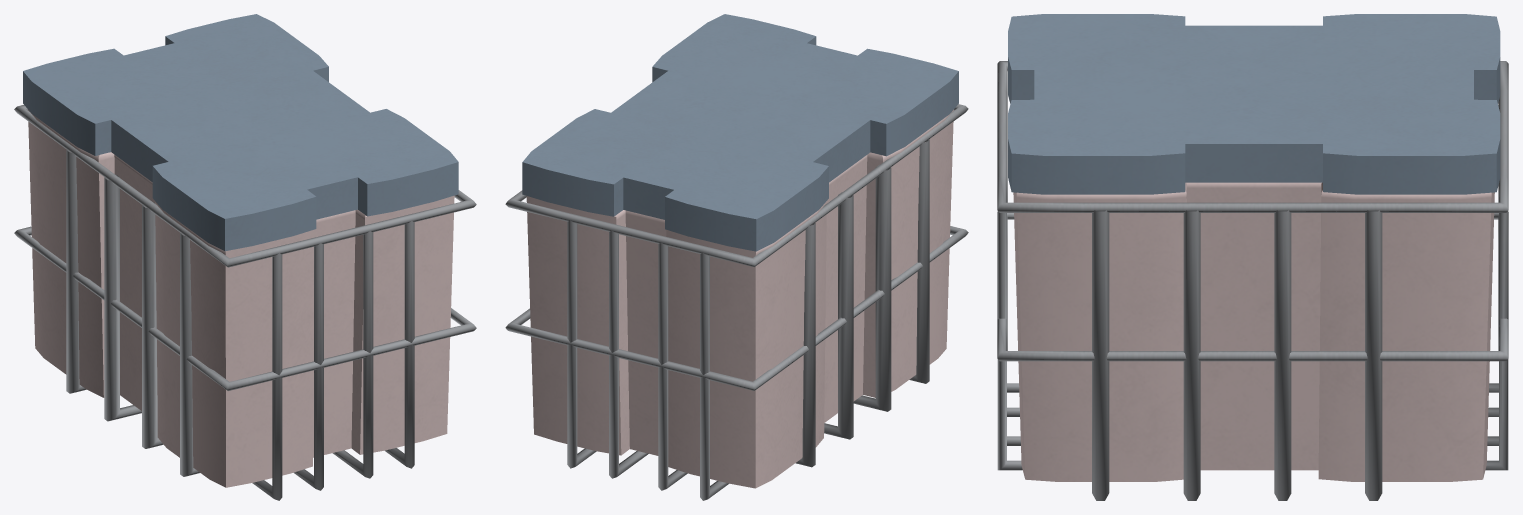
File: SM_trashcan.FBX
The picture shows the model from 3 angles, left to right: view 1: azimuth 30°, elevation 25°; view 2: azimuth 150°, elevation 25°; view 3: azimuth 270°, elevation 25°; orthographic projection. The views are drawn at different scales.
Parts seen in each view (by area): view 1: SM_trashcan, SM_trashcan_corver; view 2: SM_trashcan, SM_trashcan_corver; view 3: SM_trashcan, SM_trashcan_corver.
Boxes of the visible parts, box(x1,y1,x2,y2) form: SM_trashcan: box(14, 105, 476, 500); SM_trashcan_corver: box(23, 14, 458, 251); SM_trashcan: box(505, 104, 968, 500); SM_trashcan_corver: box(522, 14, 958, 251); SM_trashcan: box(997, 61, 1508, 500); SM_trashcan_corver: box(1008, 14, 1500, 194).
Size of the model in its own units: 14.9 by 16.24 by 21.65.
Materials: 1 (1 with a texture image).
